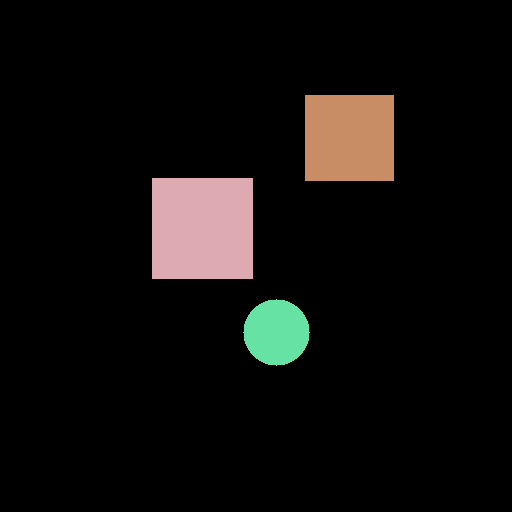circle: (243, 299, 309, 365)
square: (152, 178, 252, 278), (305, 95, 393, 180)
